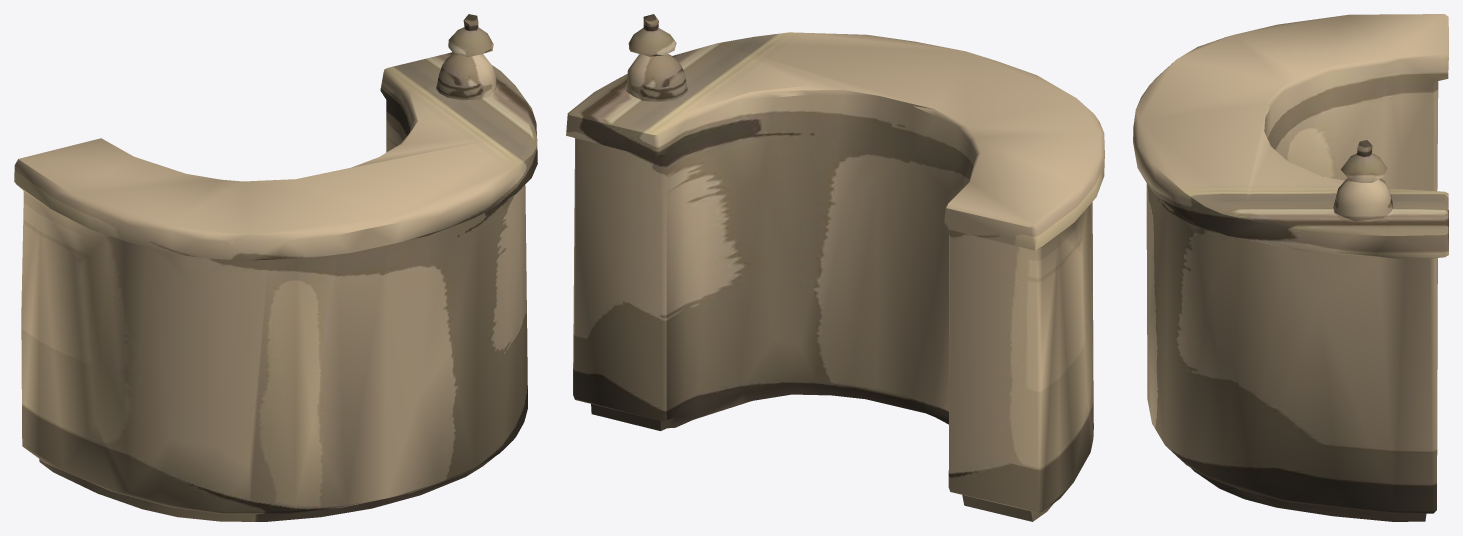
3 views of the same model, side by side, from view 1: azimuth 30°, elevation 25°; view 2: azimuth 150°, elevation 25°; view 3: azimuth 270°, elevation 25° (orthographic). The views are drawn at different scales.
Visible parts, largest first — view 1: Decor_info_desk_b_sand; view 2: Decor_info_desk_b_sand; view 3: Decor_info_desk_b_sand.
Boxes of the visible parts, box(x1,y1,x2,y2) form: Decor_info_desk_b_sand: box(14, 14, 537, 521); Decor_info_desk_b_sand: box(566, 14, 1104, 521); Decor_info_desk_b_sand: box(1133, 14, 1448, 521).
Bounding box in the file's own units: 1.42 × 1.1 × 0.8531.
1 material, 1 textured.
